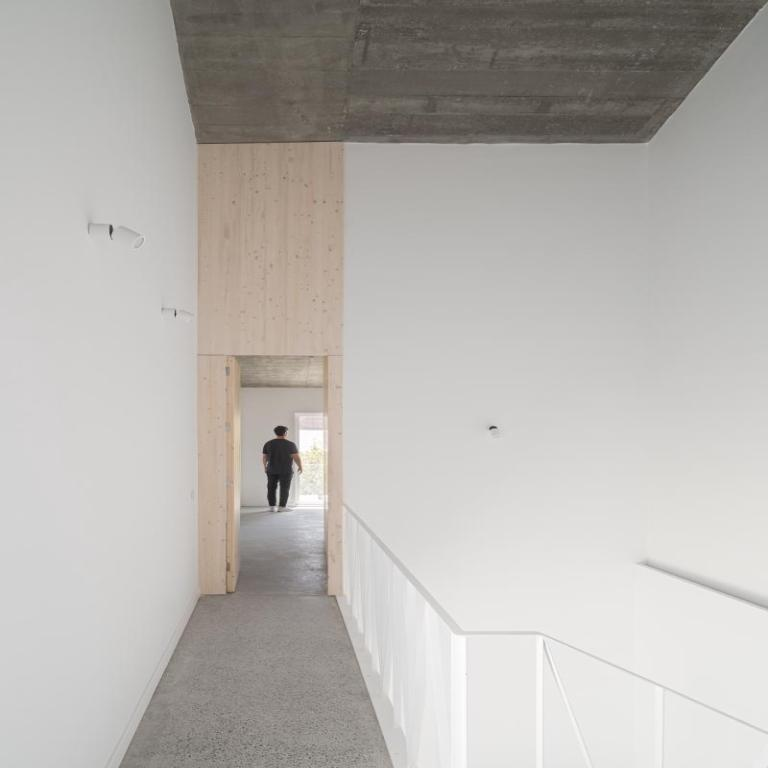white-walls: (369, 58, 753, 698)
